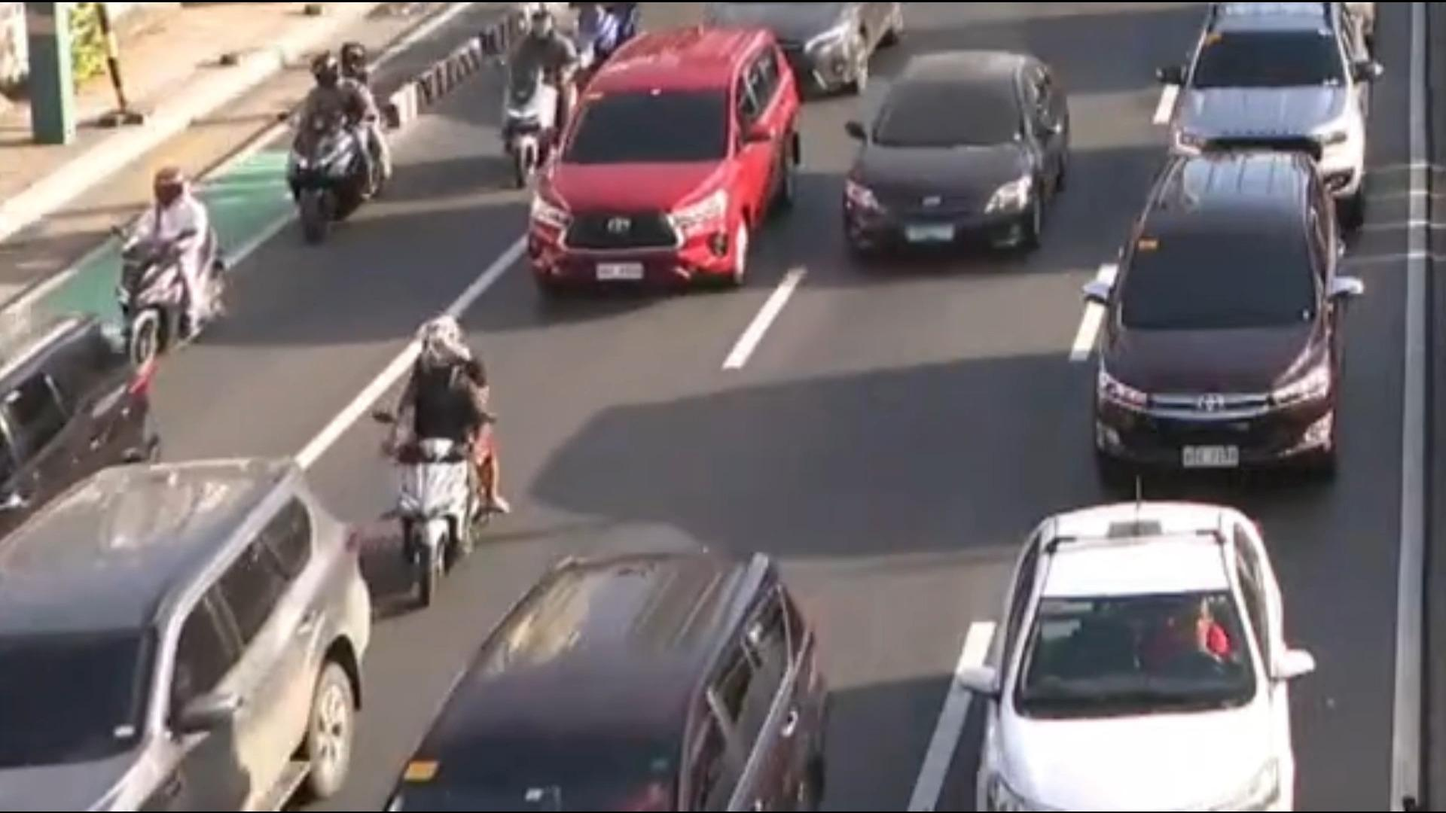Motorcycle: (369, 317, 507, 607), (107, 160, 227, 372), (279, 41, 393, 247), (497, 9, 581, 190)
SUV: (0, 449, 377, 808), (378, 549, 835, 811), (1078, 147, 1363, 500), (527, 27, 797, 300), (1158, 0, 1387, 214)
Sedan: (908, 473, 1327, 813), (840, 51, 1073, 263)
